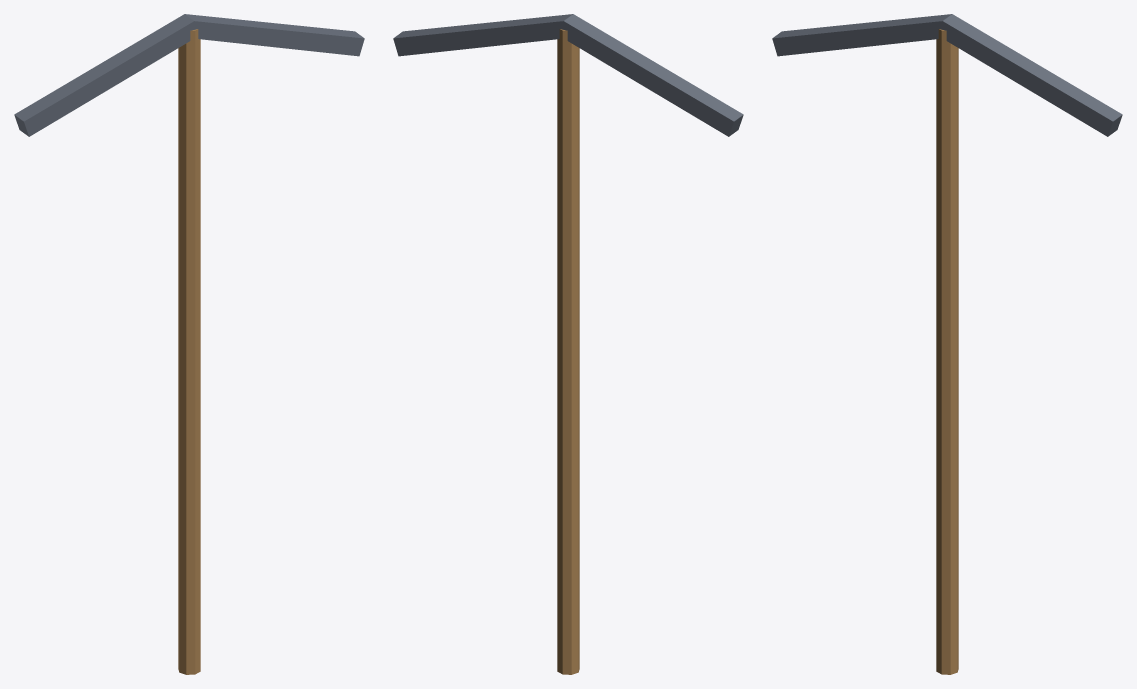
File: plant.tool.pick.glb
3 views of the same model, side by side, from view 1: azimuth 30°, elevation 25°; view 2: azimuth 150°, elevation 25°; view 3: azimuth 330°, elevation 25° (orthographic).
Visible parts, largest first — view 1: main__softwood, main__steel_painted; view 2: main__softwood, main__steel_painted; view 3: main__softwood, main__steel_painted.
Part boxes in pixels (x1=…): main__softwood: x1=178, y1=29, x2=200, y2=674; main__steel_painted: x1=14, y1=14, x2=364, y2=136; main__softwood: x1=557, y1=29, x2=579, y2=674; main__steel_painted: x1=393, y1=14, x2=743, y2=136; main__softwood: x1=936, y1=29, x2=958, y2=674; main__steel_painted: x1=772, y1=14, x2=1122, y2=136.
Size of the model in its own units: 0.6095 by 1.12 by 0.036.
